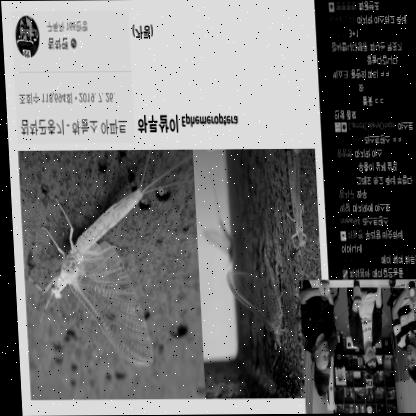streamer: (342, 286, 382, 377), (295, 279, 333, 371), (385, 279, 416, 383)
